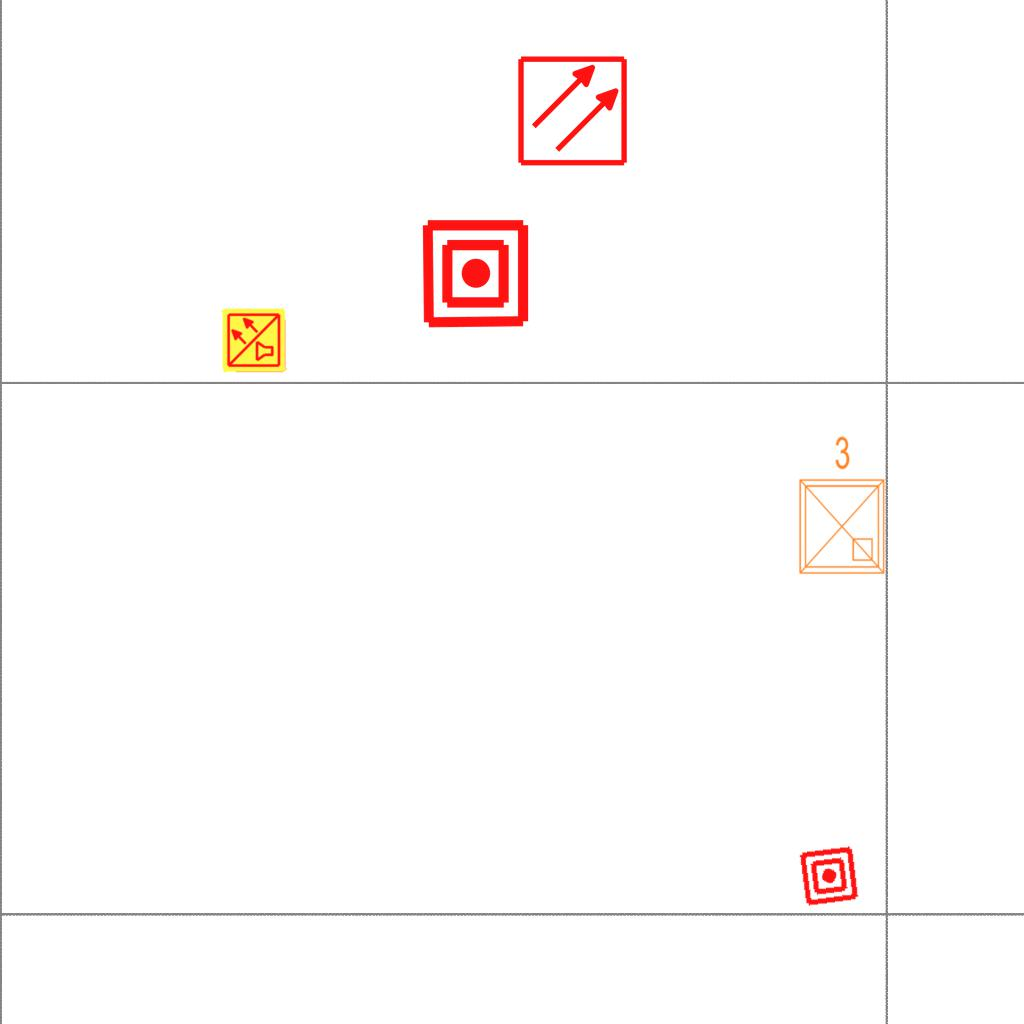Einbaudownlights_LED_Konferenzraeume: (788, 431, 892, 581)
NAM-Nichtautomatischer_Melder: (419, 217, 532, 330), (797, 844, 861, 908)
OKW_Multisensormelder_(Kombination_optischer_Rauch-Kahlenmonoxid_Waerme-Melder): (220, 306, 288, 374)
RMO_Rauchmelder_optischer: (516, 54, 629, 167)
